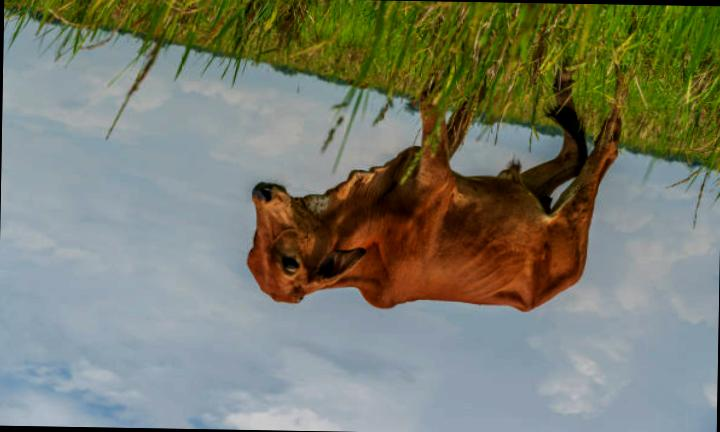Brahman: (248, 72, 620, 311)
